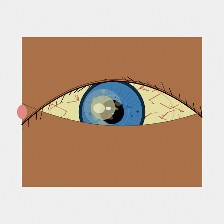corneal_ulcer: (83, 92, 123, 124)
